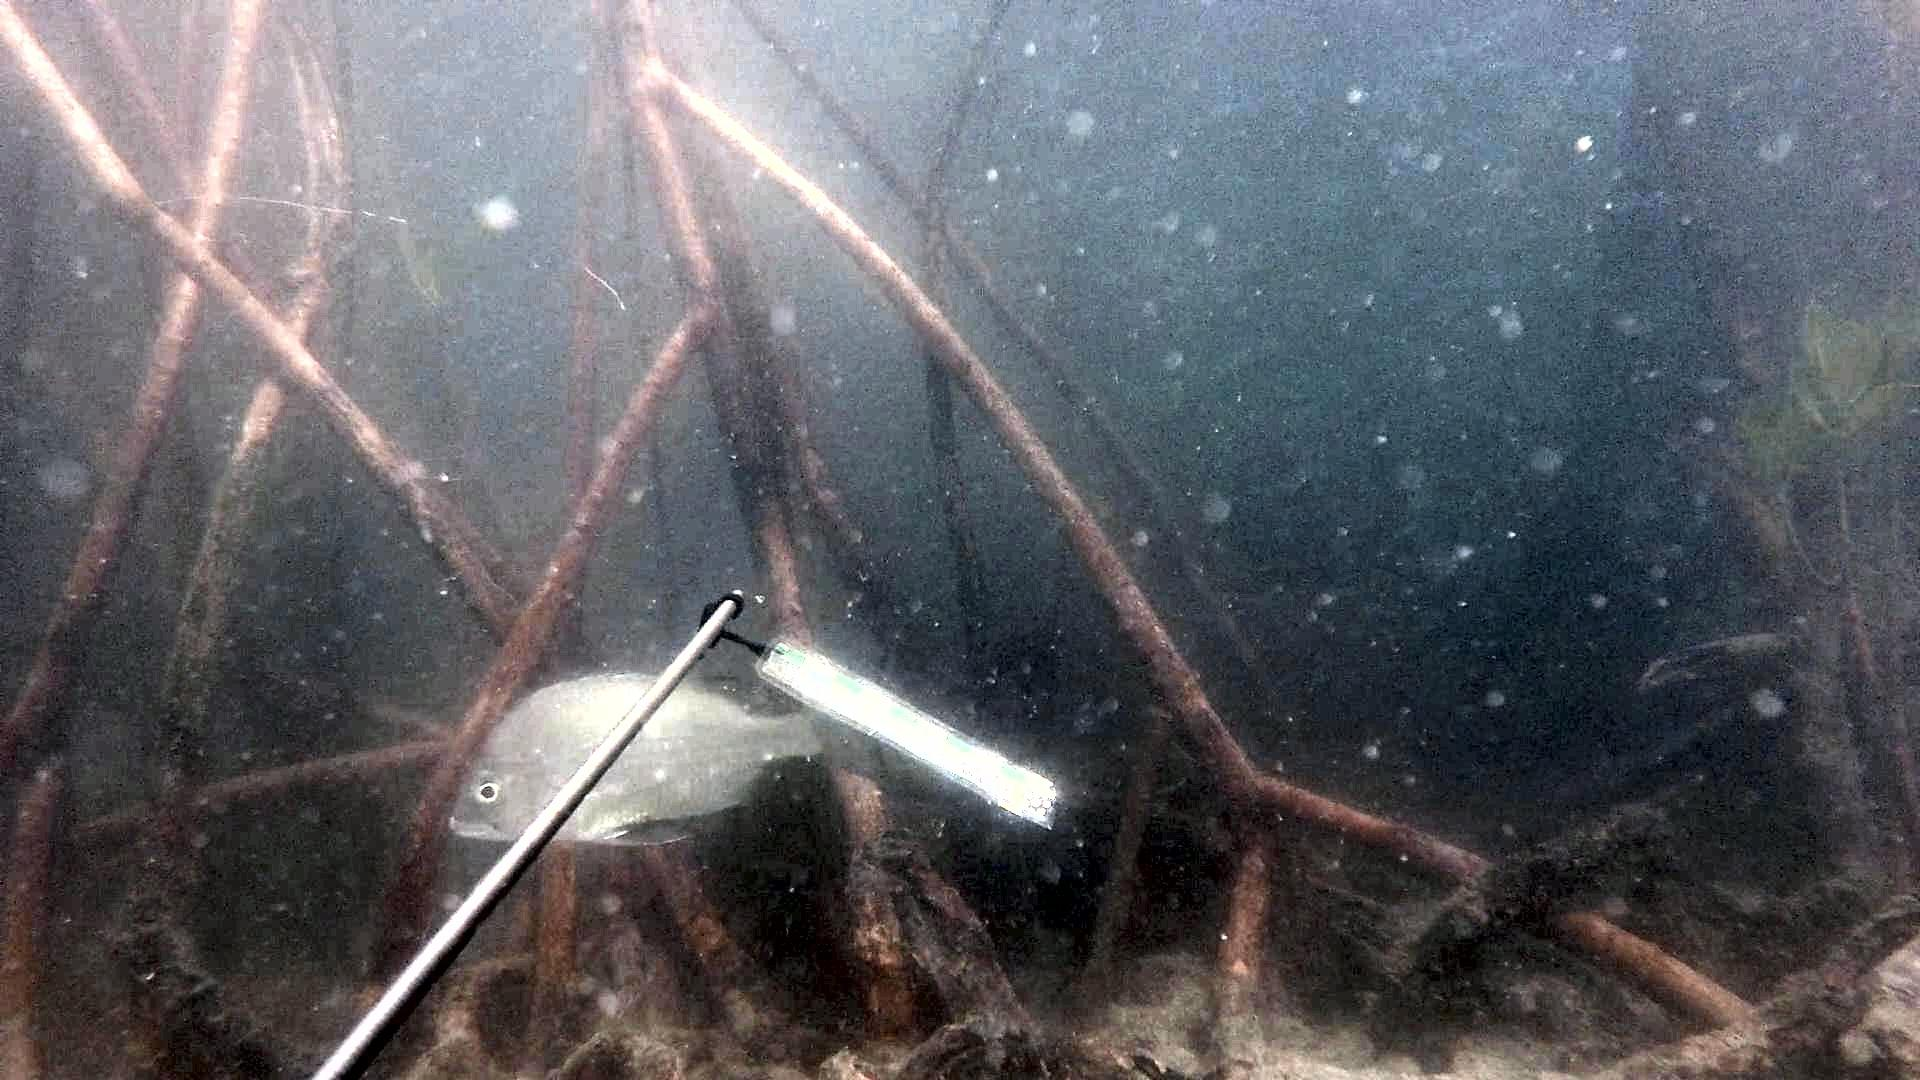acanthopagrus palmaris: (435, 663, 822, 858)
